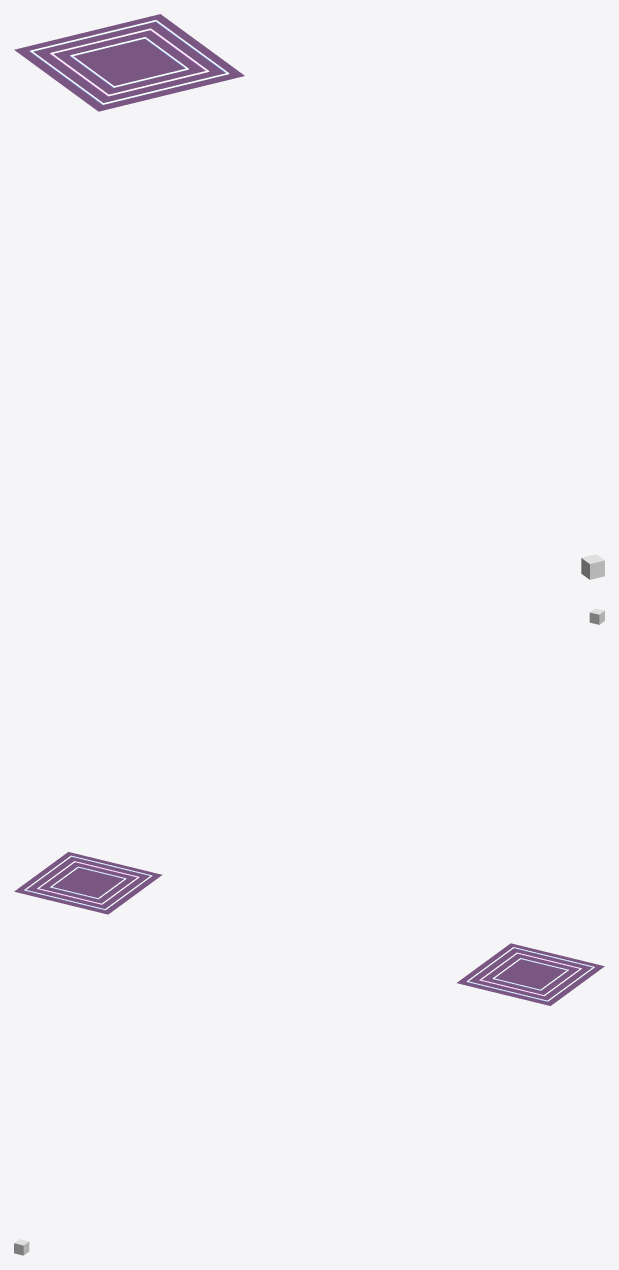
The picture shows the model from 3 angles, top to bottom: view 1: azimuth 30°, elevation 25°; view 2: azimuth 150°, elevation 25°; view 3: azimuth 330°, elevation 25°; orthographic projection. The views are drawn at different scales.
Parts seen in each view (by area): view 1: 物件_5; view 2: 物件_5; view 3: 物件_5.
Part boxes in pixels (left/top/right/bottom): 物件_5: left=14, top=14, right=244, bottom=111; 物件_5: left=14, top=852, right=162, bottom=914; 物件_5: left=457, top=943, right=604, bottom=1005.
Size of what is drawn, in the model's own units: 8.12 by 0.5 by 38.73.
